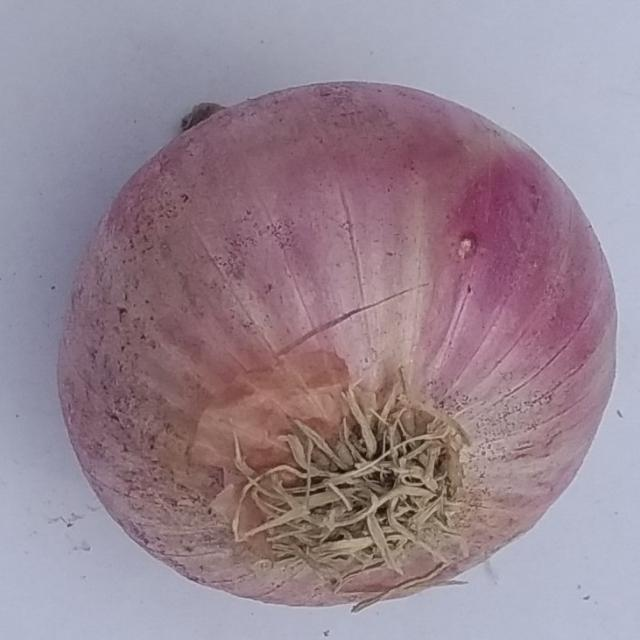onion: (51, 82, 620, 616)
